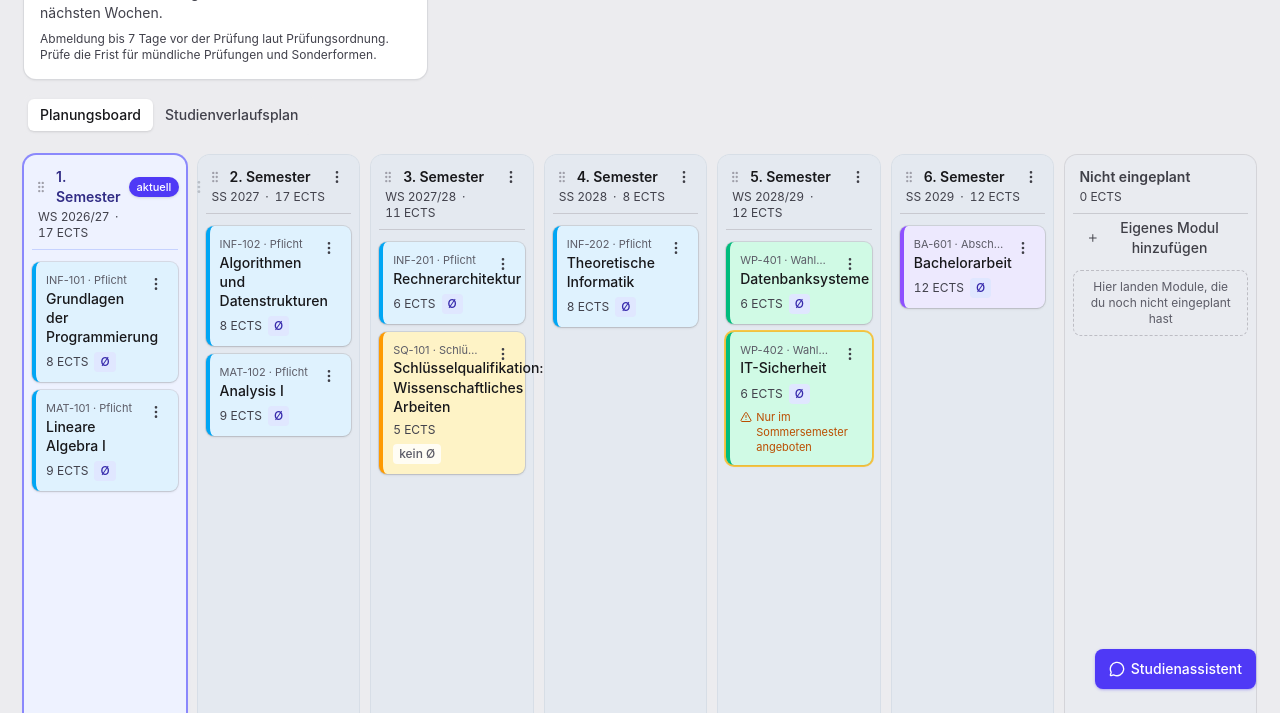
Test: board › records a pass/fail module without changing the average
(page scrolled)
Click the button named "Aktionen für Schlüsselqualifikation: Wissenschaftliches Arbe". click: {"x": 503, "y": 354}
box: [487,338,519,370]
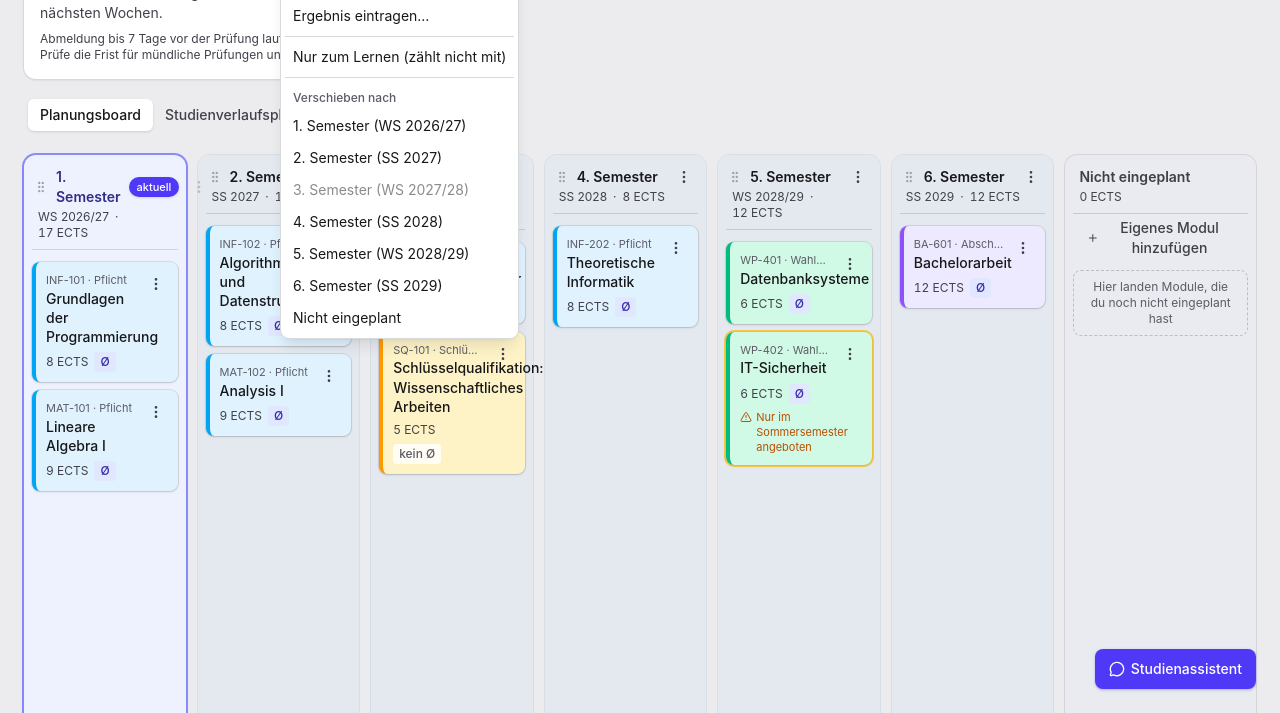
Click the menu item "Ergebnis eintragen…". click: {"x": 361, "y": 16}
box: [293,7,429,24]
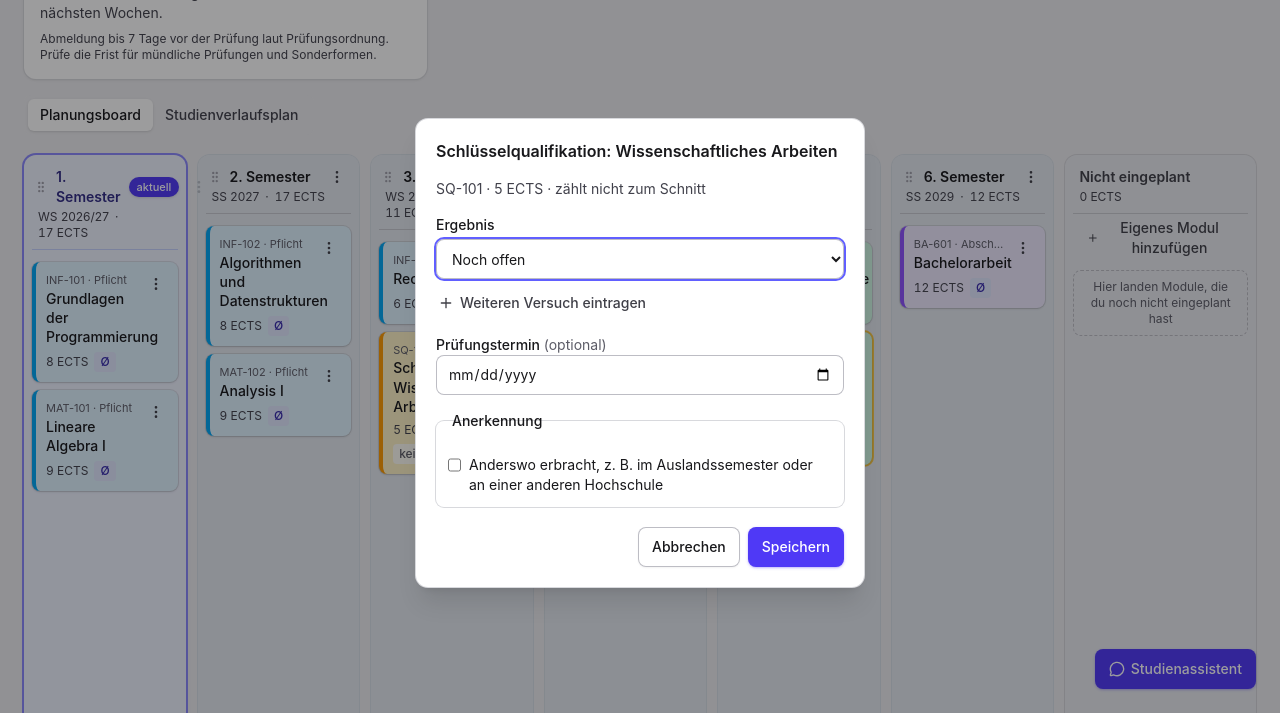
Select "Bestanden" in the dropdown labelled "Ergebnis". click: {"x": 640, "y": 259}
box: [436,239,844,279]
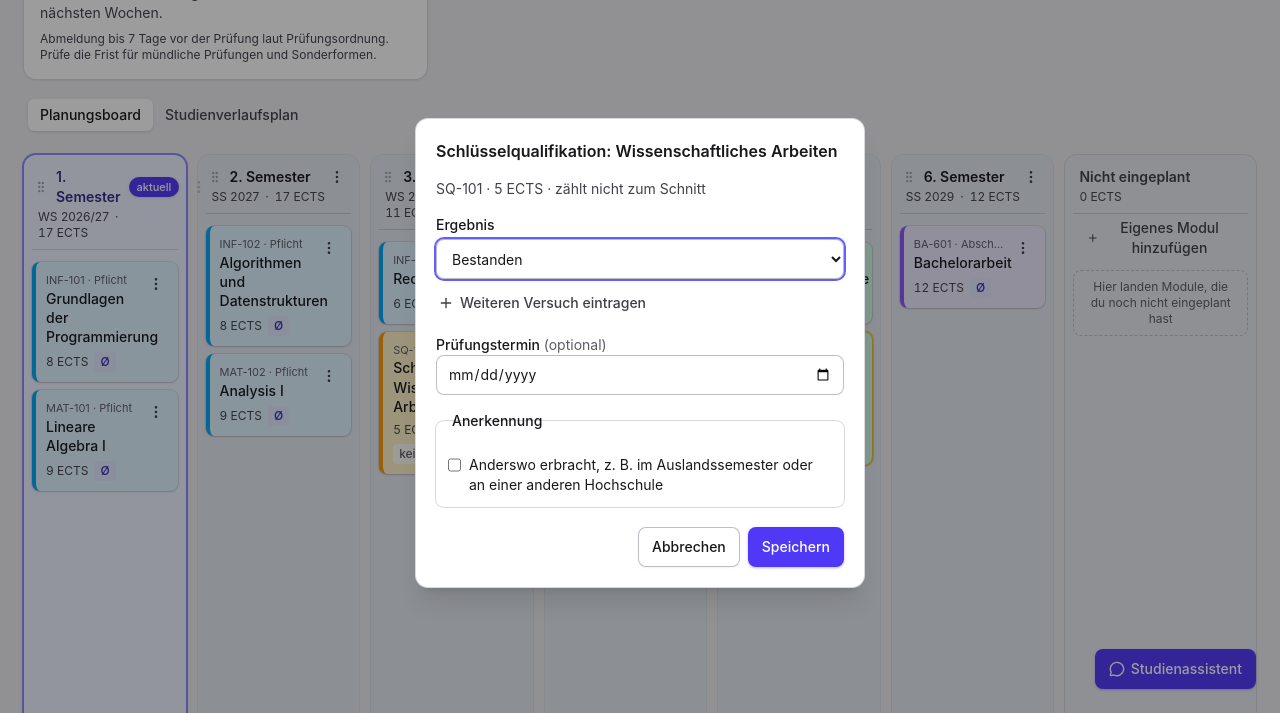
Click the button "Speichern". click: {"x": 796, "y": 547}
box: [748,527,844,567]
(page scrolled)
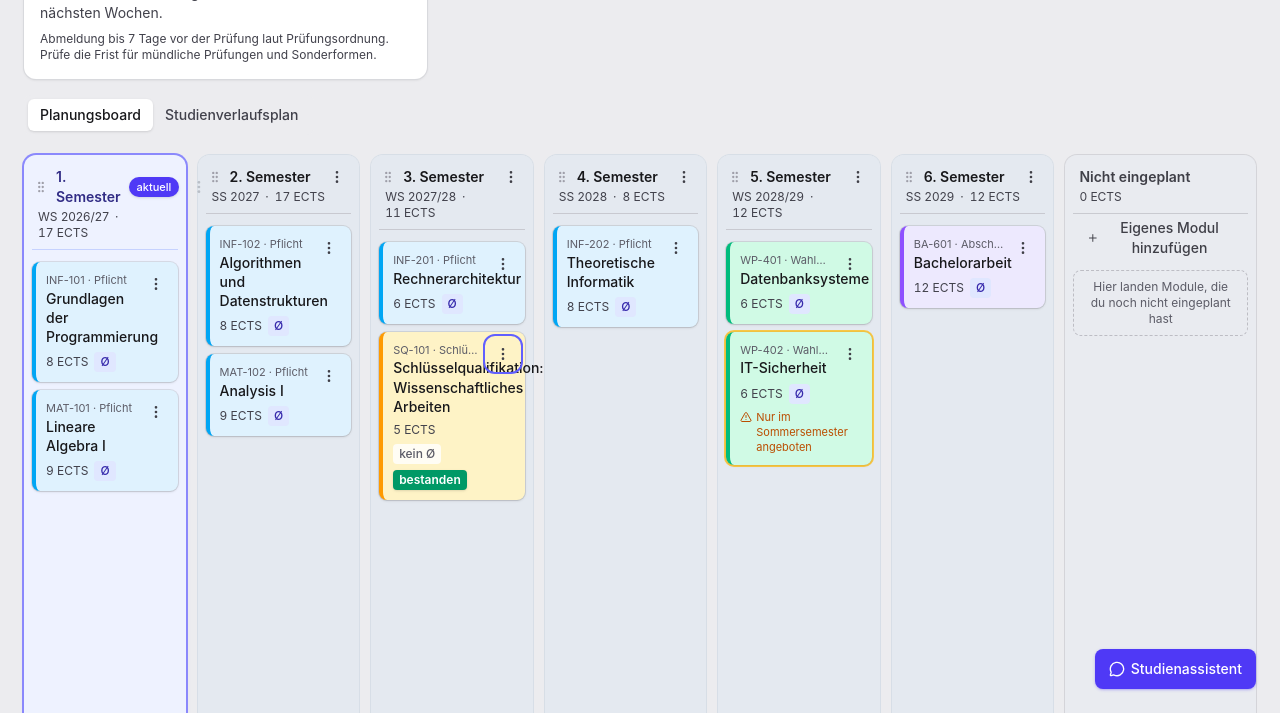
Check: the text "bestanden" is shown, box [393,470,467,490]
